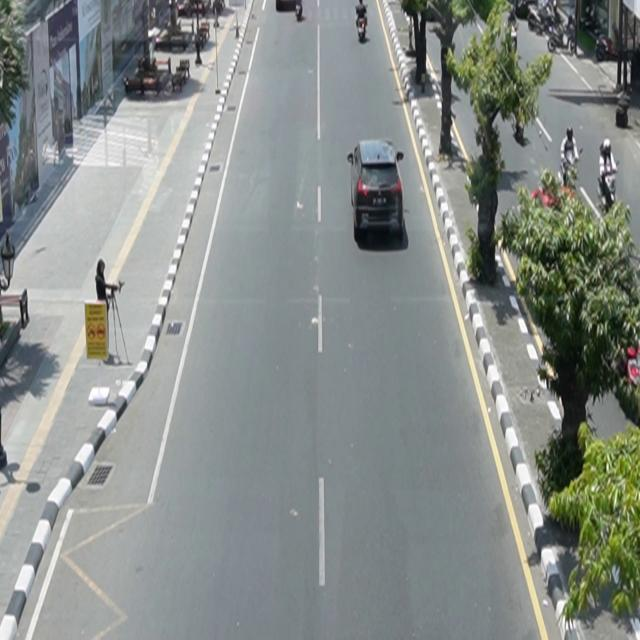car: (348, 139, 405, 242)
